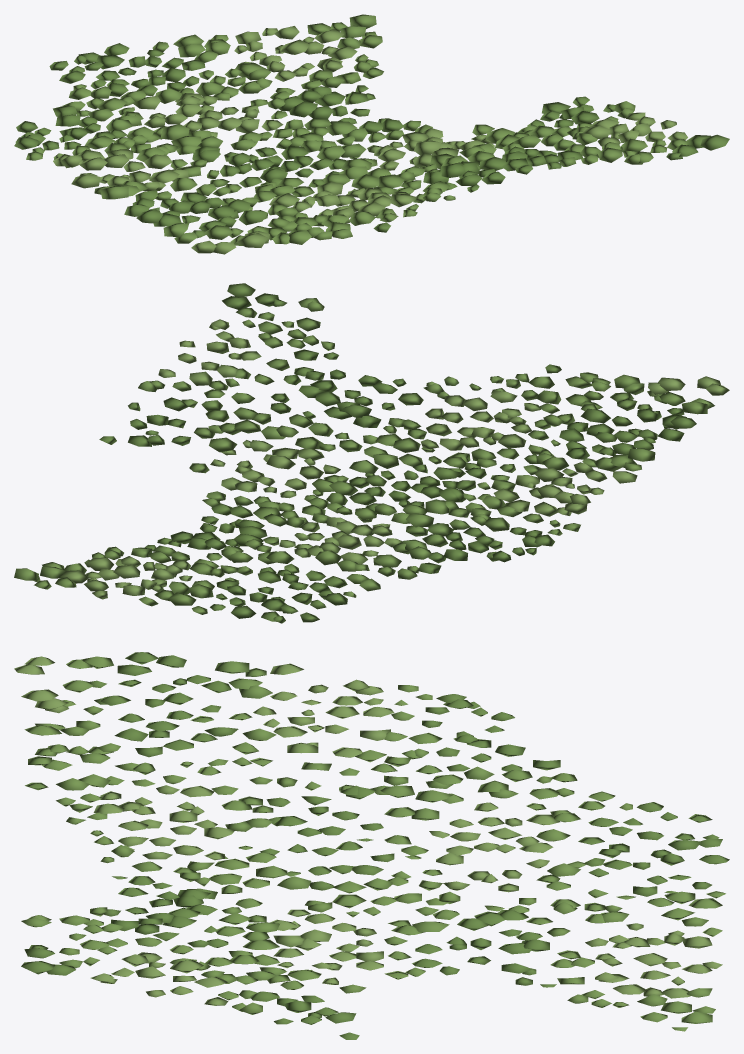
File: canopy-1-3--2.glb
3 renders of one model, top to bottom at view 1: azimuth 30°, elevation 25°; view 2: azimuth 150°, elevation 25°; view 3: azimuth 270°, elevation 25°, orthographic. The views are drawn at different scales.
Size of the model in its own units: 518 by 100 by 518.
1 material, 1 textured.
